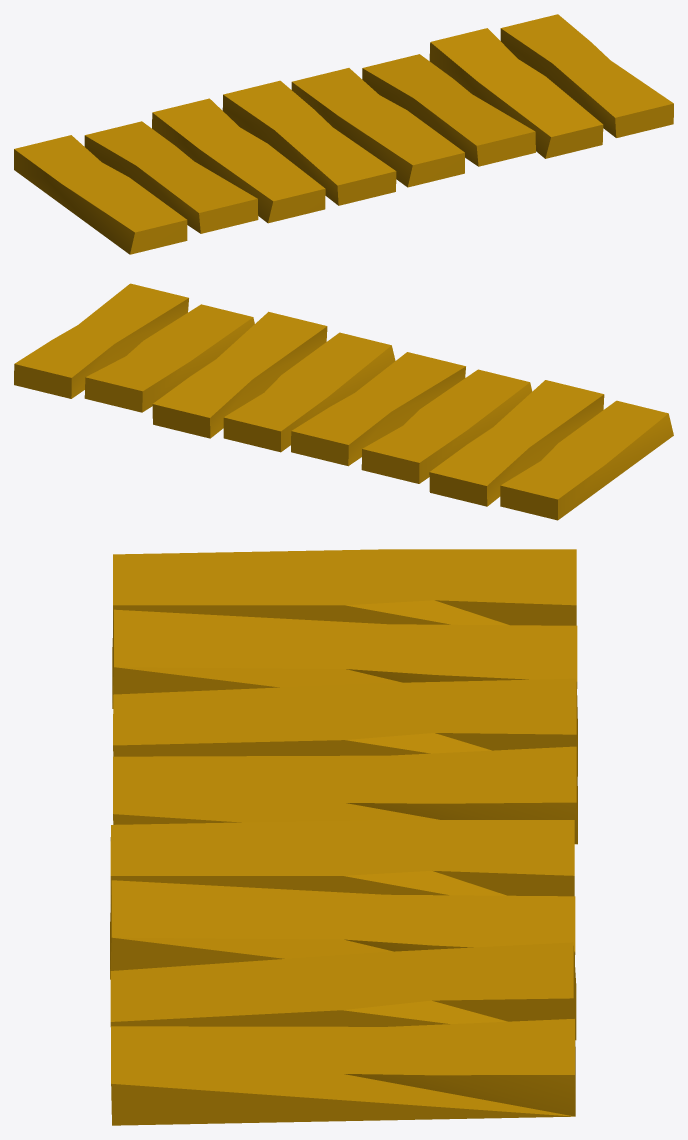
The model's file is ponte3.fbx.
3 renders of one model, top to bottom at view 1: azimuth 30°, elevation 25°; view 2: azimuth 150°, elevation 25°; view 3: azimuth 270°, elevation 25°, orthographic. The views are drawn at different scales.
Visible parts, largest first — view 1: Bridge_Timber_Small_01; view 2: Bridge_Timber_Small_01; view 3: Bridge_Timber_Small_01.
Boxes of the visible parts, left/top/right/bottom form: Bridge_Timber_Small_01: left=14, top=14, right=673, bottom=254; Bridge_Timber_Small_01: left=14, top=283, right=673, bottom=520; Bridge_Timber_Small_01: left=110, top=549, right=577, bottom=1125.
Bounding box in the file's own units: 387 × 22.26 × 144.
